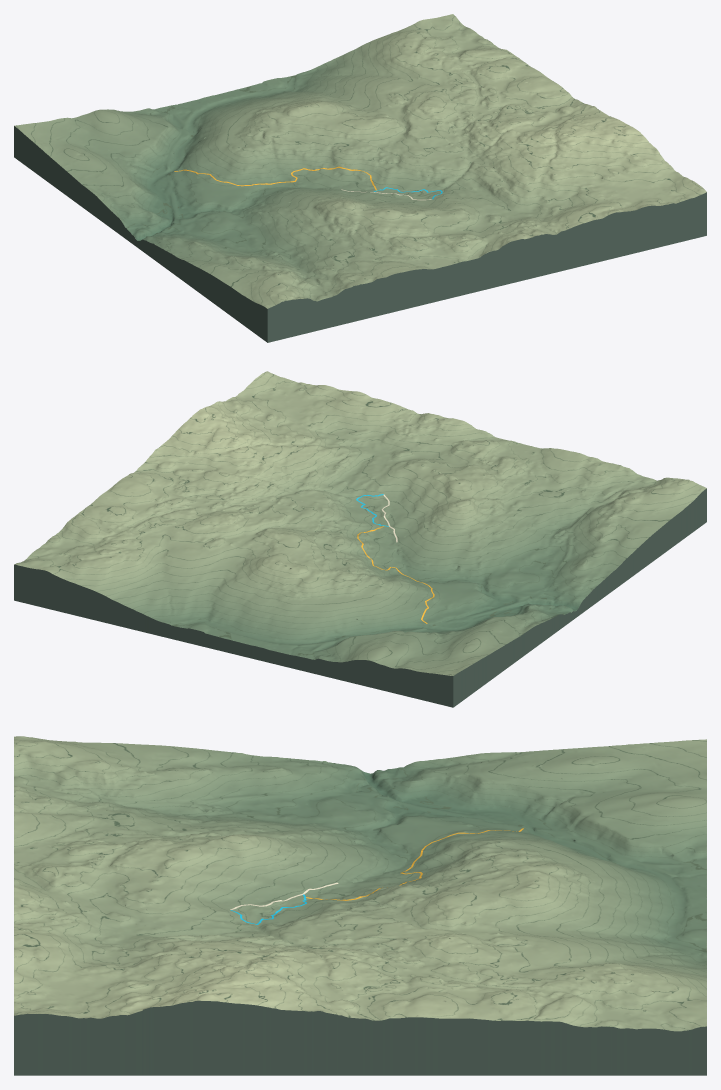
Rendered from porcupine-mobile.glb.
The picture shows the model from 3 angles, top to bottom: view 1: azimuth 30°, elevation 25°; view 2: azimuth 150°, elevation 25°; view 3: azimuth 270°, elevation 25°; orthographic projection. The views are drawn at different scales.
Visible parts, largest first — view 1: Terrain_100k, Cutaway_base; view 2: Terrain_100k, Cutaway_base; view 3: Terrain_100k, Cutaway_base.
Boxes of the visible parts, x1,y1,x2,y2 form: Terrain_100k: (14, 14, 706, 308); Cutaway_base: (14, 126, 706, 342); Terrain_100k: (14, 371, 706, 675); Cutaway_base: (14, 488, 706, 707); Terrain_100k: (14, 736, 706, 1031); Cutaway_base: (14, 763, 706, 1075).
Bounding box in the file's own units: 0.6001 × 0.0723 × 0.6001.
5 materials, 1 textured.
